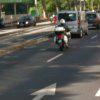Motorcycle: (46, 15, 84, 53)
